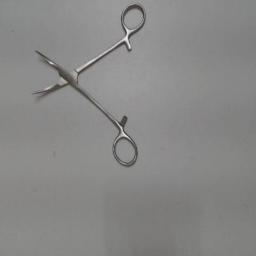Crile Artery Forceps: (28, 0, 146, 172)
